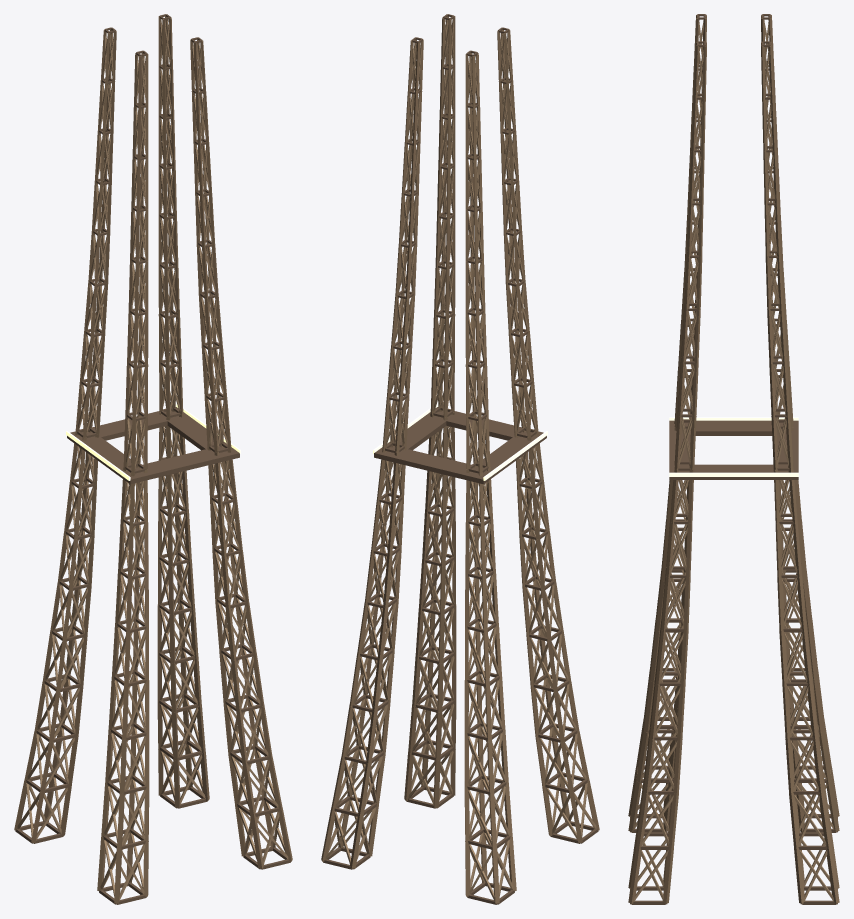
The model's file is 07_shaft.glb.
3 views of the same model, side by side, from view 1: azimuth 30°, elevation 25°; view 2: azimuth 150°, elevation 25°; view 3: azimuth 270°, elevation 25° (orthographic). The views are drawn at different scales.
Visible parts, largest first — view 1: shaft_iron, shaft_ironlight, shaft_irondark; view 2: shaft_iron, shaft_ironlight, shaft_irondark; view 3: shaft_iron, shaft_ironlight, shaft_irondark, shaft_lamp_nocol.
Boxes of the visible parts, bbox=[...] form: shaft_iron: bbox=[14, 16, 292, 903]; shaft_ironlight: bbox=[17, 20, 288, 900]; shaft_irondark: bbox=[15, 14, 290, 904]; shaft_iron: bbox=[321, 16, 599, 903]; shaft_ironlight: bbox=[325, 20, 596, 900]; shaft_irondark: bbox=[323, 14, 598, 904]; shaft_iron: bbox=[628, 15, 839, 903]; shaft_ironlight: bbox=[631, 22, 836, 901]; shaft_irondark: bbox=[630, 14, 837, 904]; shaft_lamp_nocol: bbox=[669, 417, 798, 476].
Size of the model in its own units: 36.53 by 159 by 36.53.
